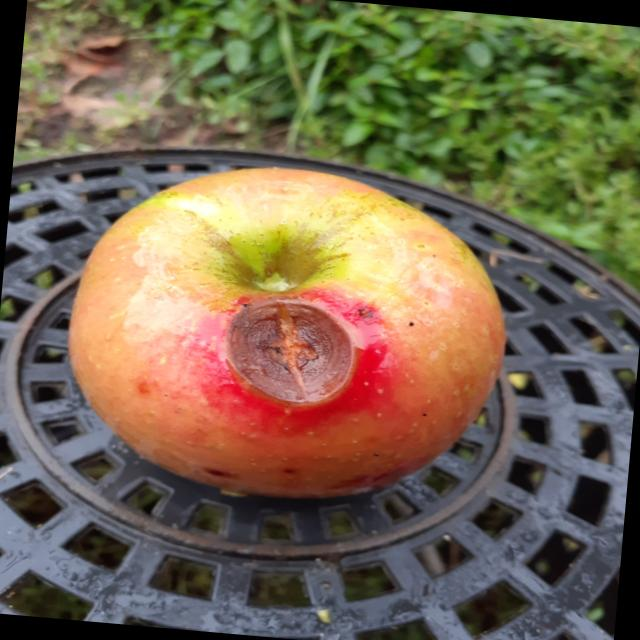rotten: (36, 132, 547, 533)
